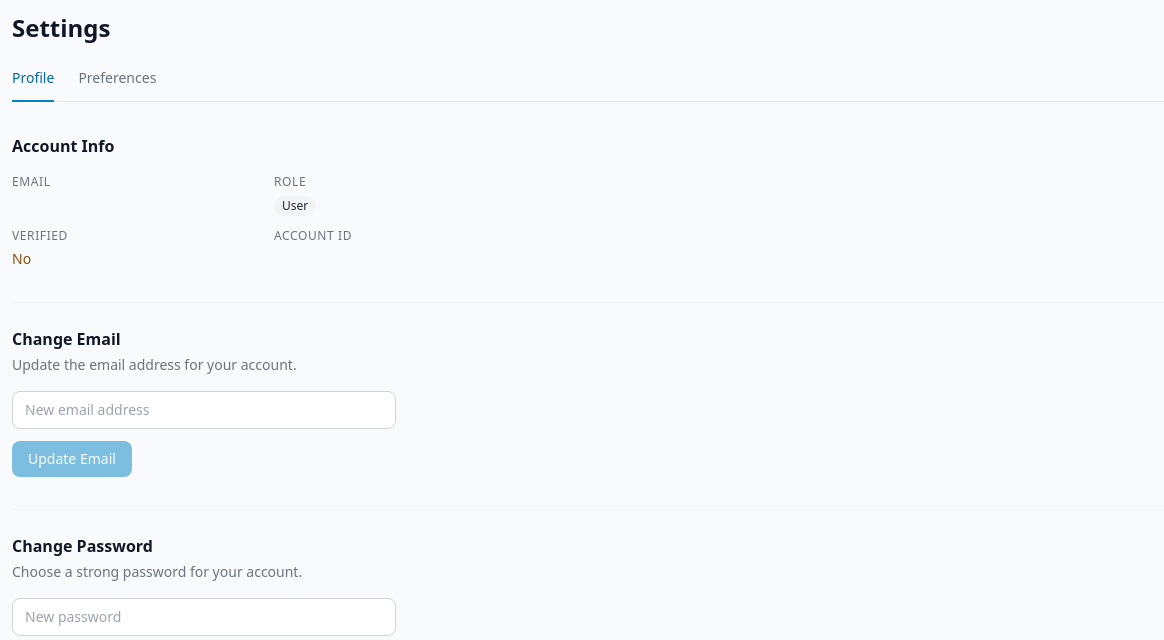
Settings page › clicking Profile tab returns to profile section
Click the button "Preferences": (117, 85) x1=78 y1=68 x2=156 y2=102
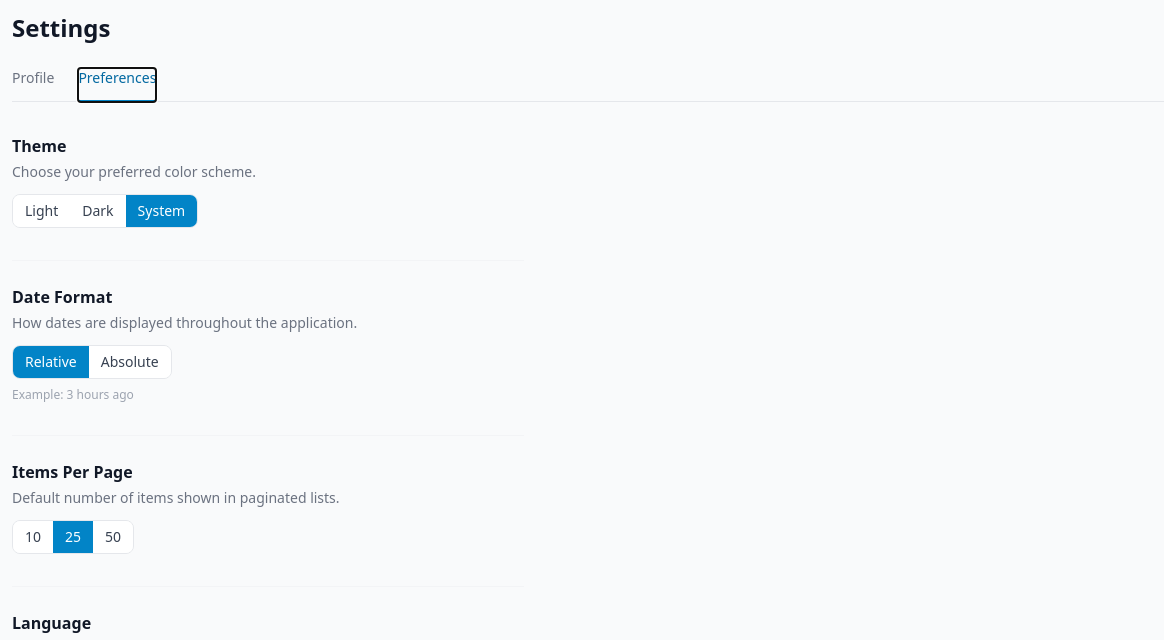
Now the heading "Theme" is shown, box x1=12 y1=135 x2=66 y2=157
Click the button "Profile": (33, 85) x1=12 y1=68 x2=54 y2=102
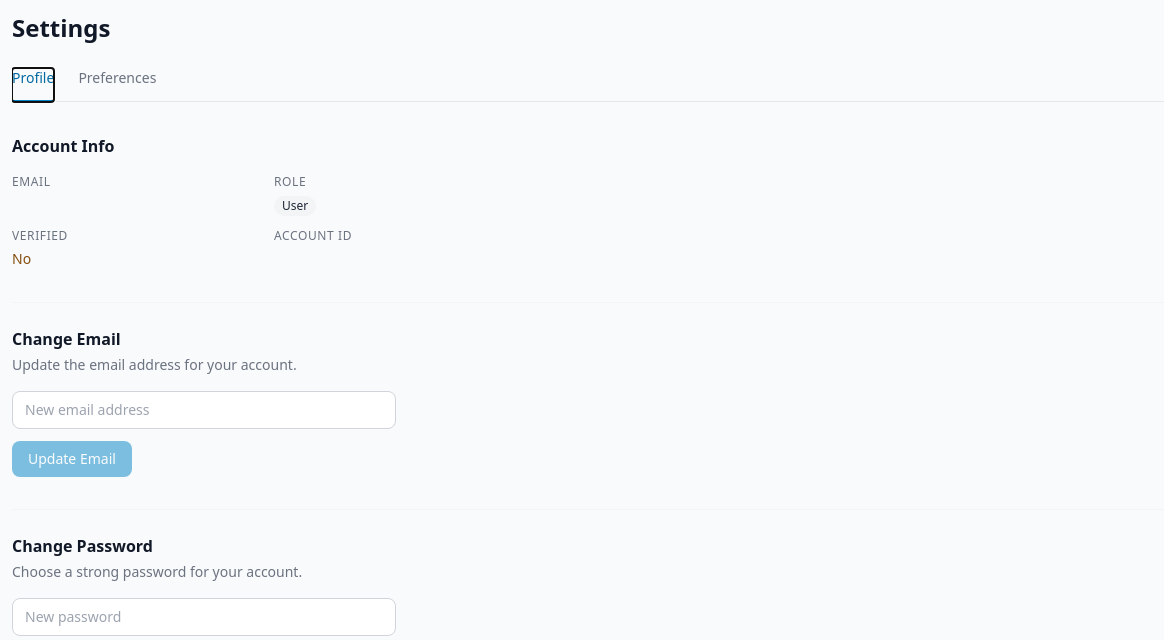
Now the heading "Account Info" is shown, box x1=12 y1=135 x2=114 y2=157
